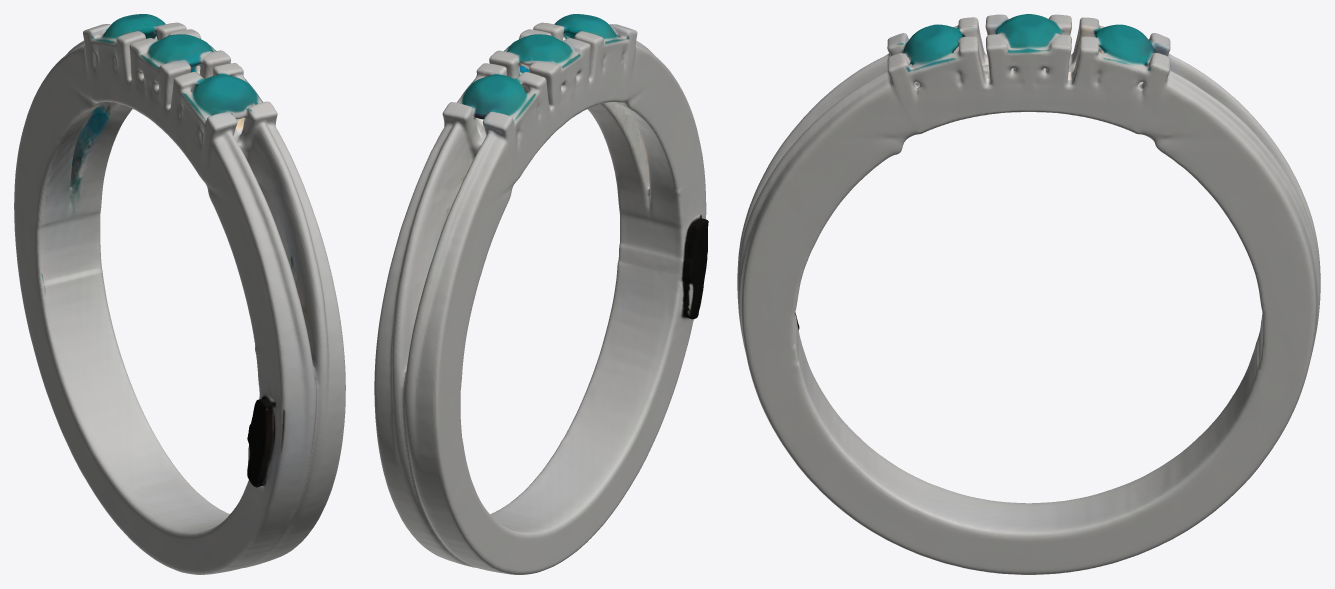
Rendered from gen003.obj.
The picture shows the model from 3 angles, left to right: view 1: azimuth 30°, elevation 25°; view 2: azimuth 150°, elevation 25°; view 3: azimuth 270°, elevation 25°; orthographic projection. The views are drawn at different scales.
Visible parts, largest first — view 1: tripo_node_883d94c6-5a87-4e44-9f9c-082a4b53534c; view 2: tripo_node_883d94c6-5a87-4e44-9f9c-082a4b53534c; view 3: tripo_node_883d94c6-5a87-4e44-9f9c-082a4b53534c.
Boxes of the visible parts, box(x1,y1,x2,y2) form: tripo_node_883d94c6-5a87-4e44-9f9c-082a4b53534c: box(14, 14, 345, 574); tripo_node_883d94c6-5a87-4e44-9f9c-082a4b53534c: box(374, 14, 708, 574); tripo_node_883d94c6-5a87-4e44-9f9c-082a4b53534c: box(737, 14, 1320, 574).
Size of the model in its own units: 0.1456 by 0.9481 by 0.927.
Materials: 1 (1 with a texture image).
